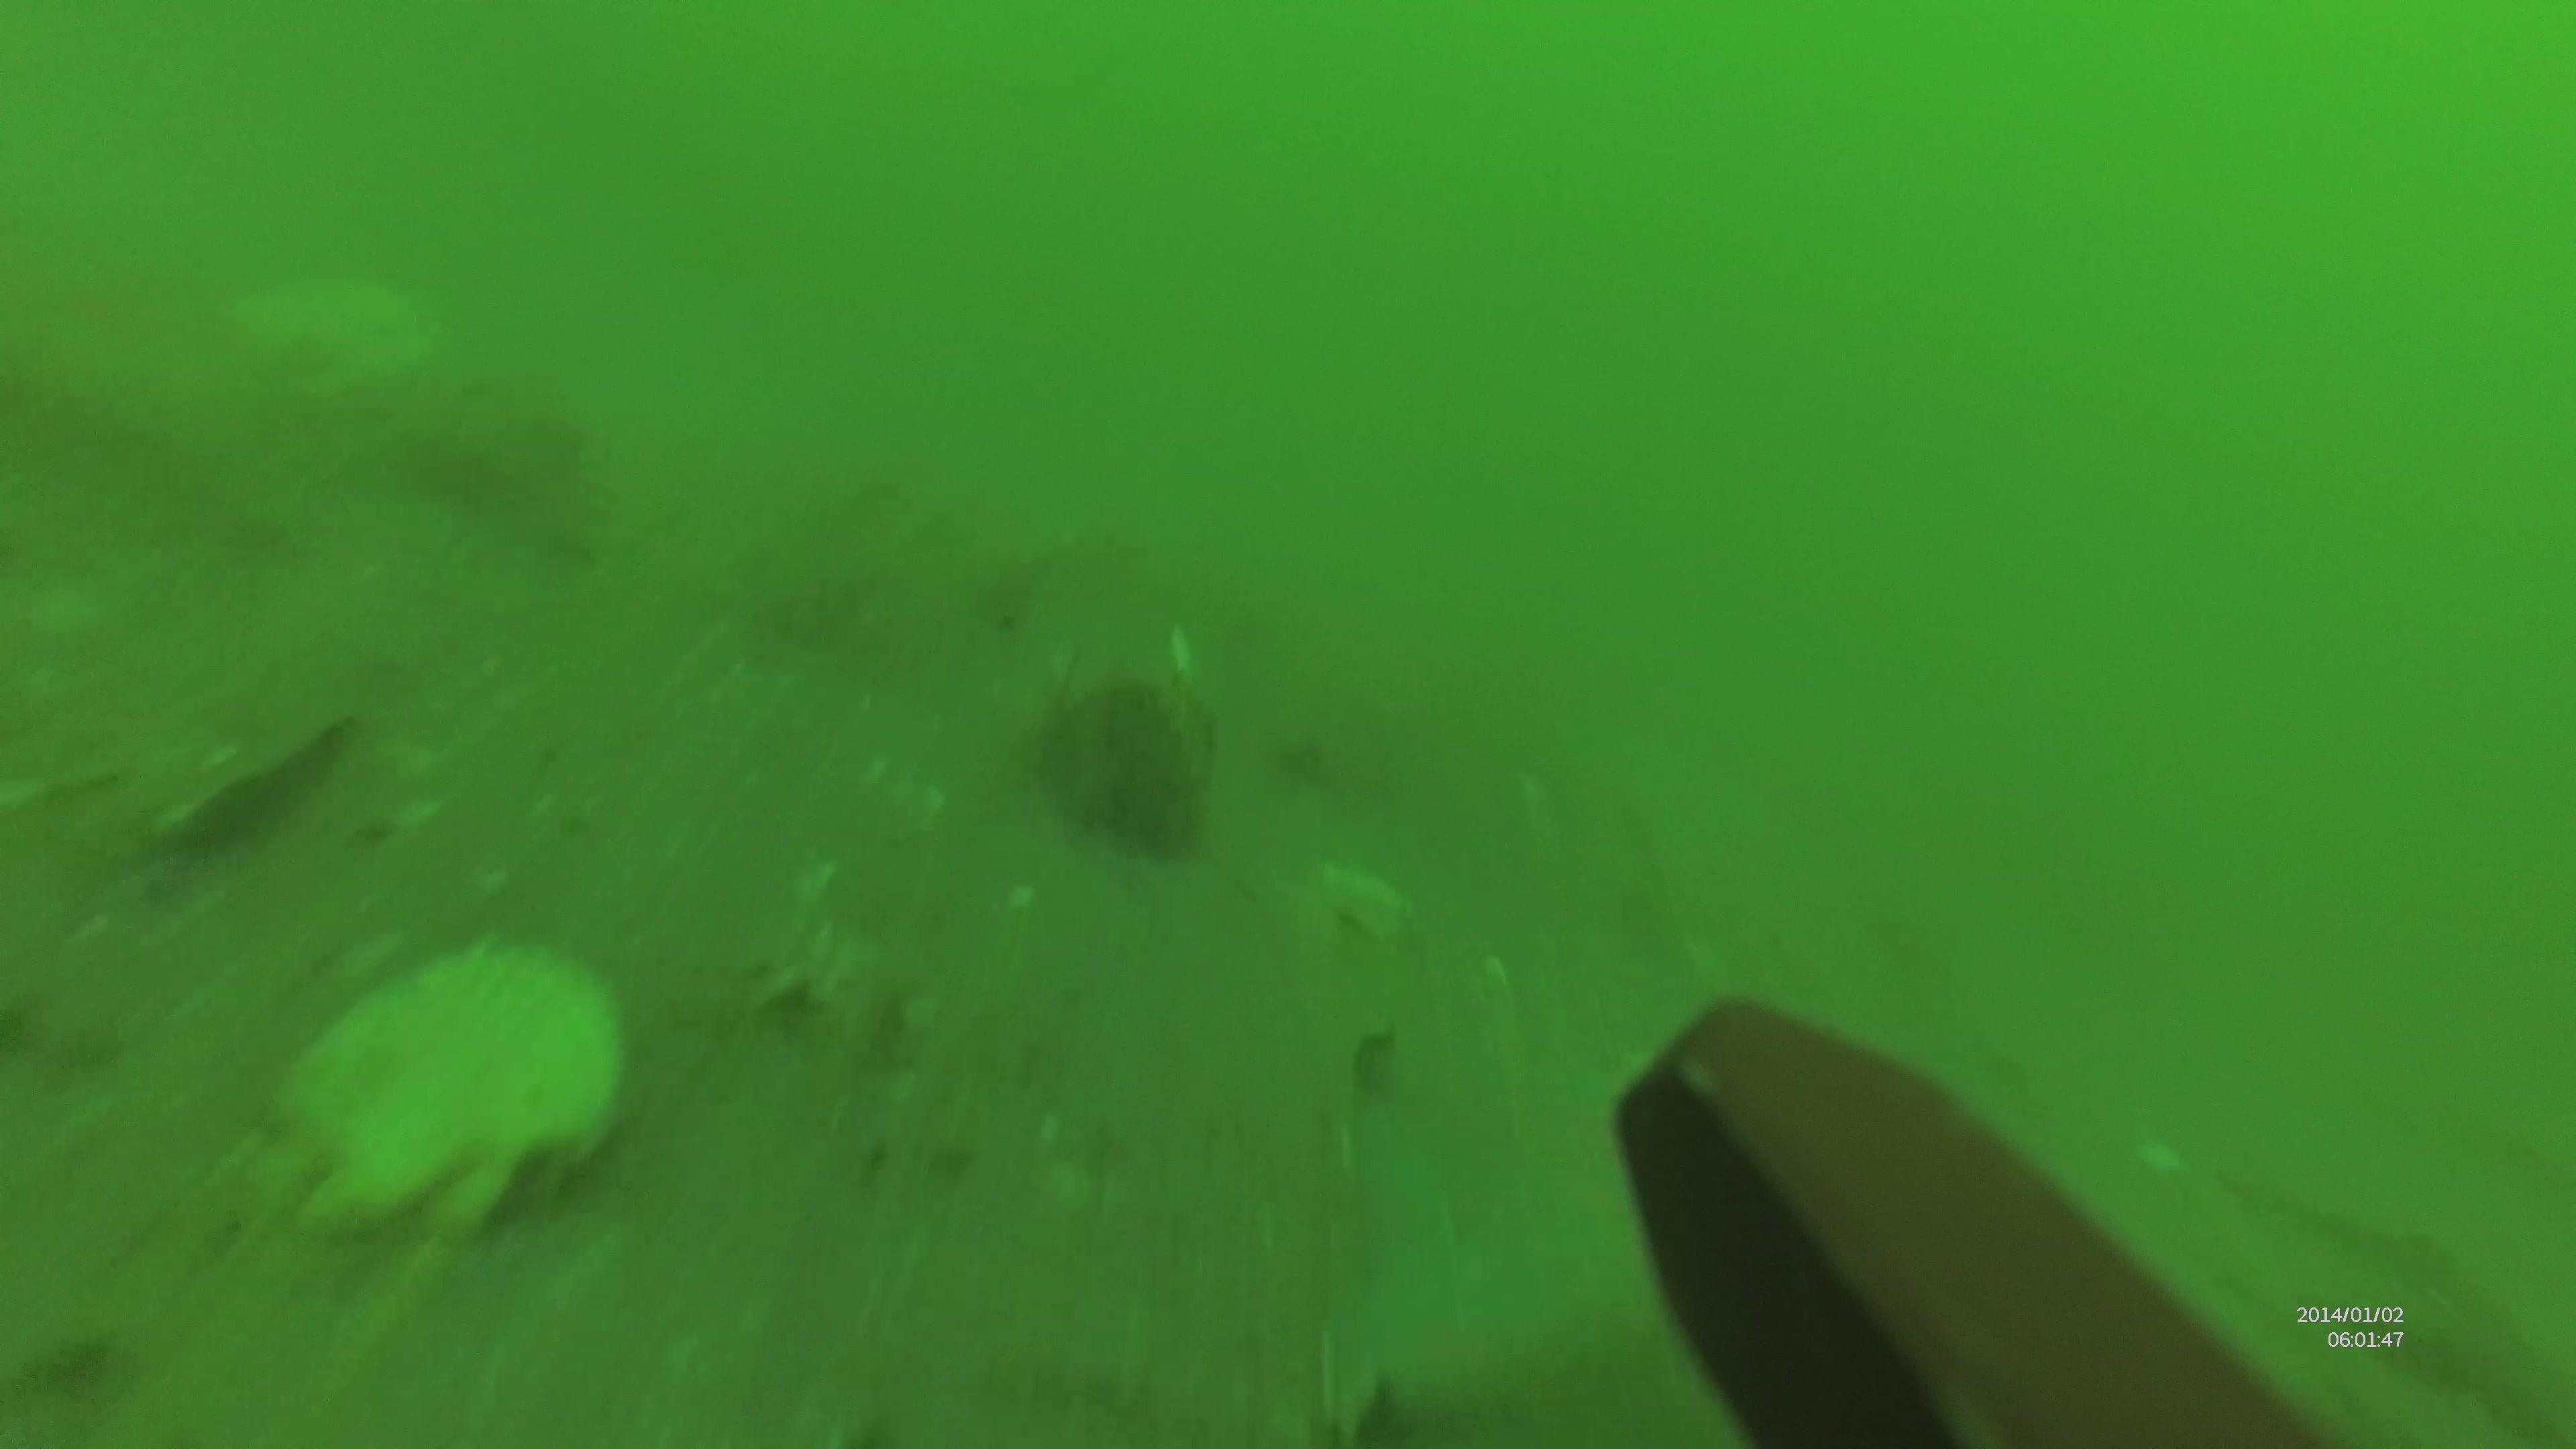scallop: (297, 939, 621, 1224)
